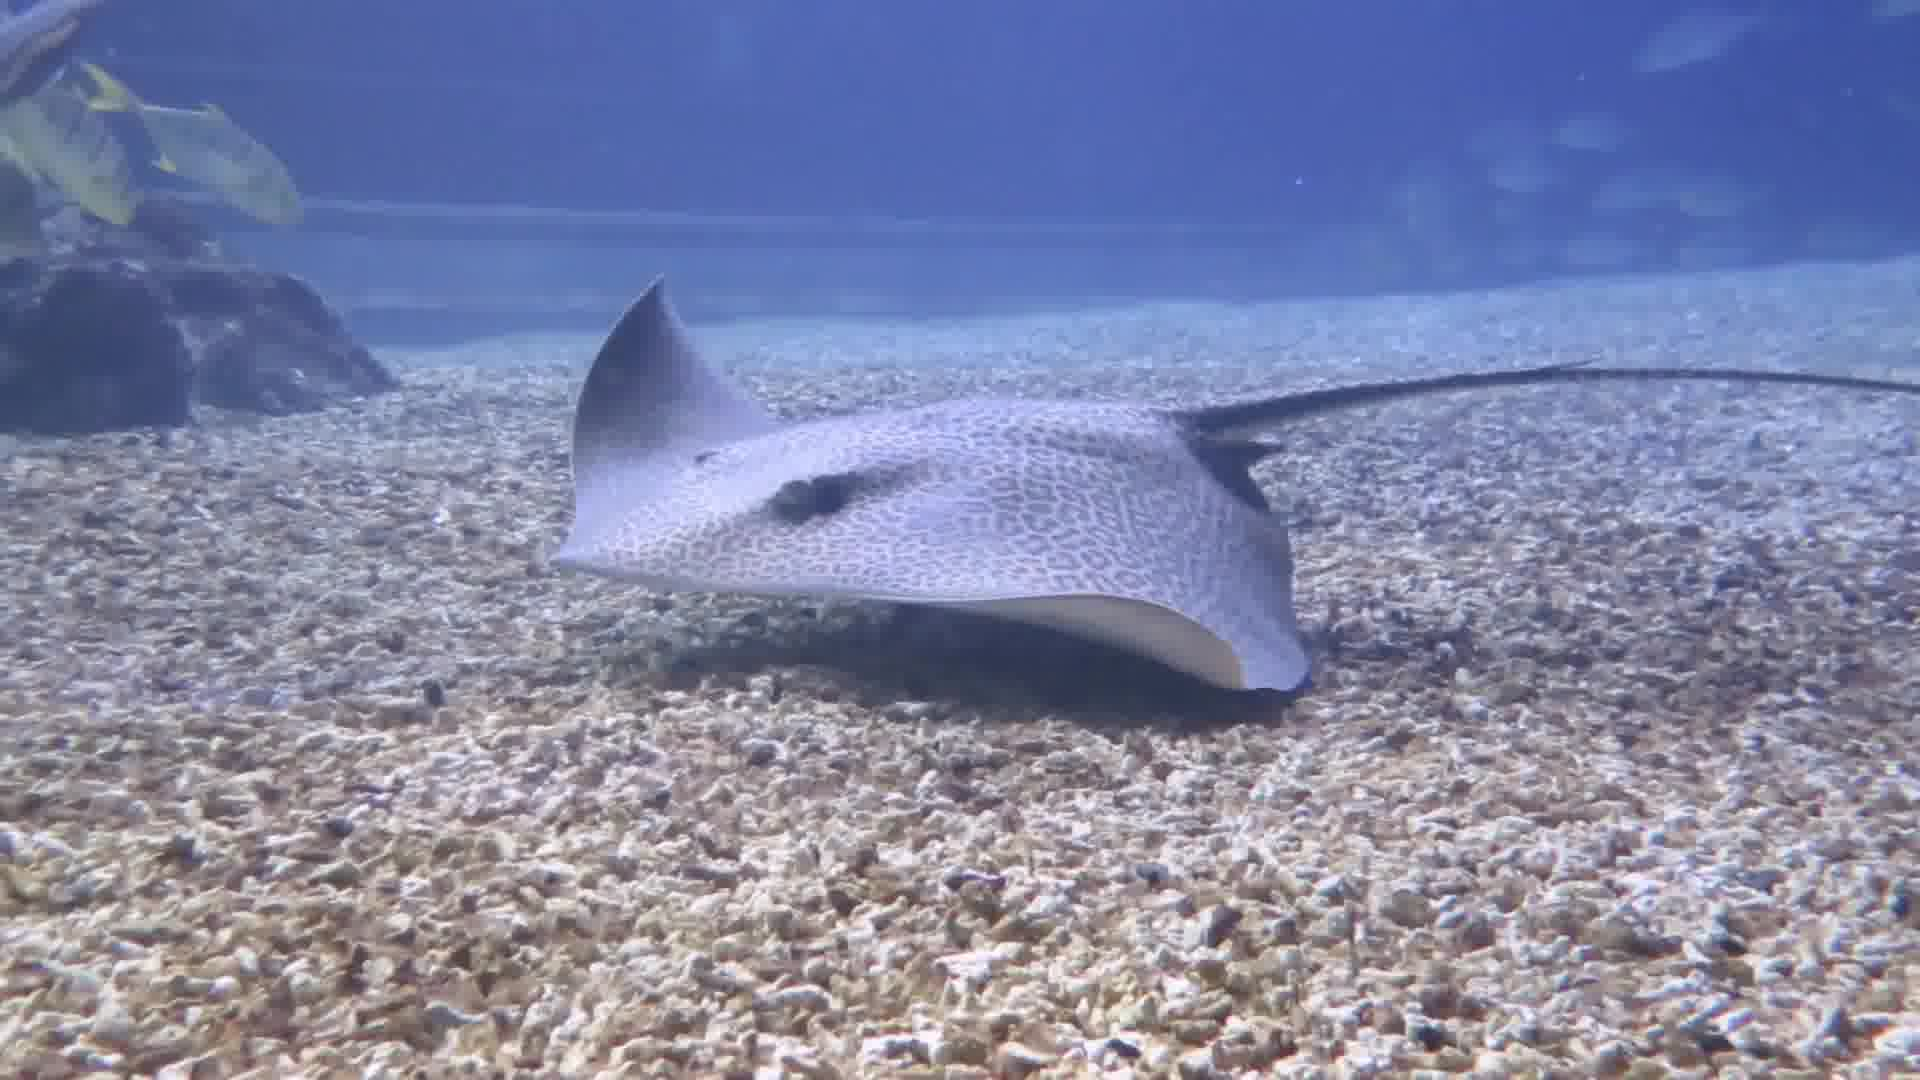Himantura uarnak: (543, 237, 1917, 716)
